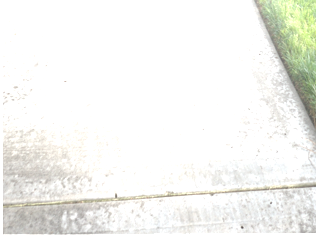Edge: (253, 4, 314, 130)
